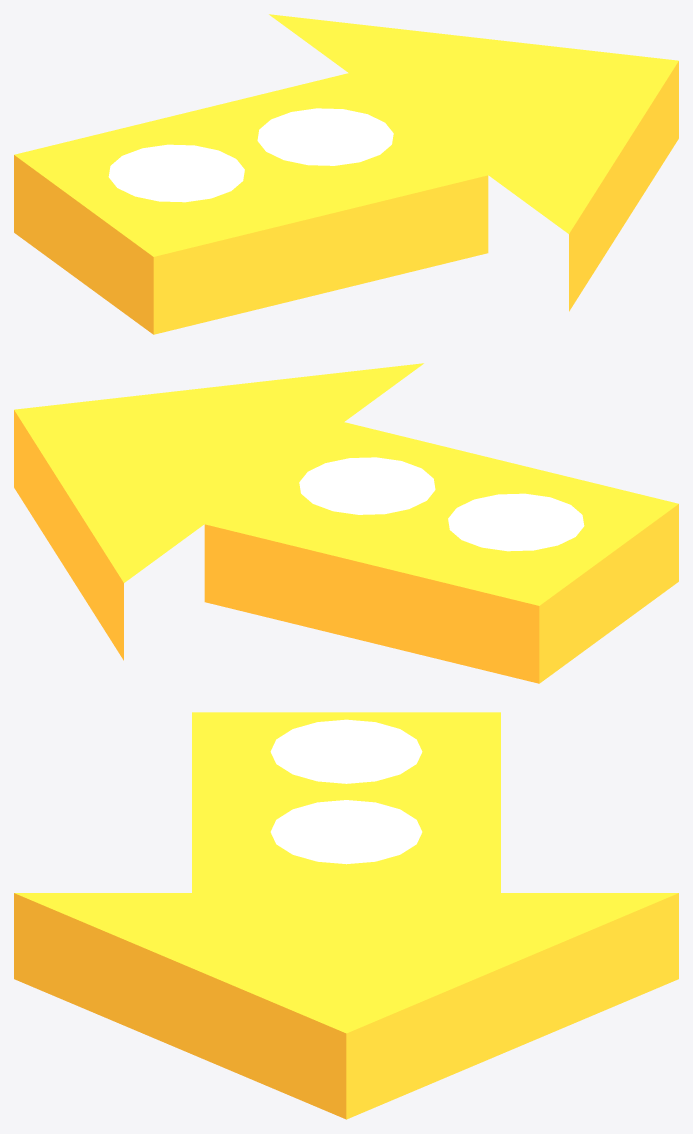
File: pad_amber2.glb
The picture shows the model from 3 angles, top to bottom: view 1: azimuth 30°, elevation 25°; view 2: azimuth 150°, elevation 25°; view 3: azimuth 270°, elevation 25°; orthographic projection. The views are drawn at different scales.
Visible parts, largest first — view 1: pad_amber2; view 2: pad_amber2; view 3: pad_amber2.
Boxes of the visible parts, left/top/right/bottom form: pad_amber2: left=14, top=14, right=678, bottom=334; pad_amber2: left=14, top=363, right=678, bottom=683; pad_amber2: left=14, top=712, right=678, bottom=1119.
Bounding box in the file's own units: 0.032 × 0.0045 × 0.028.
